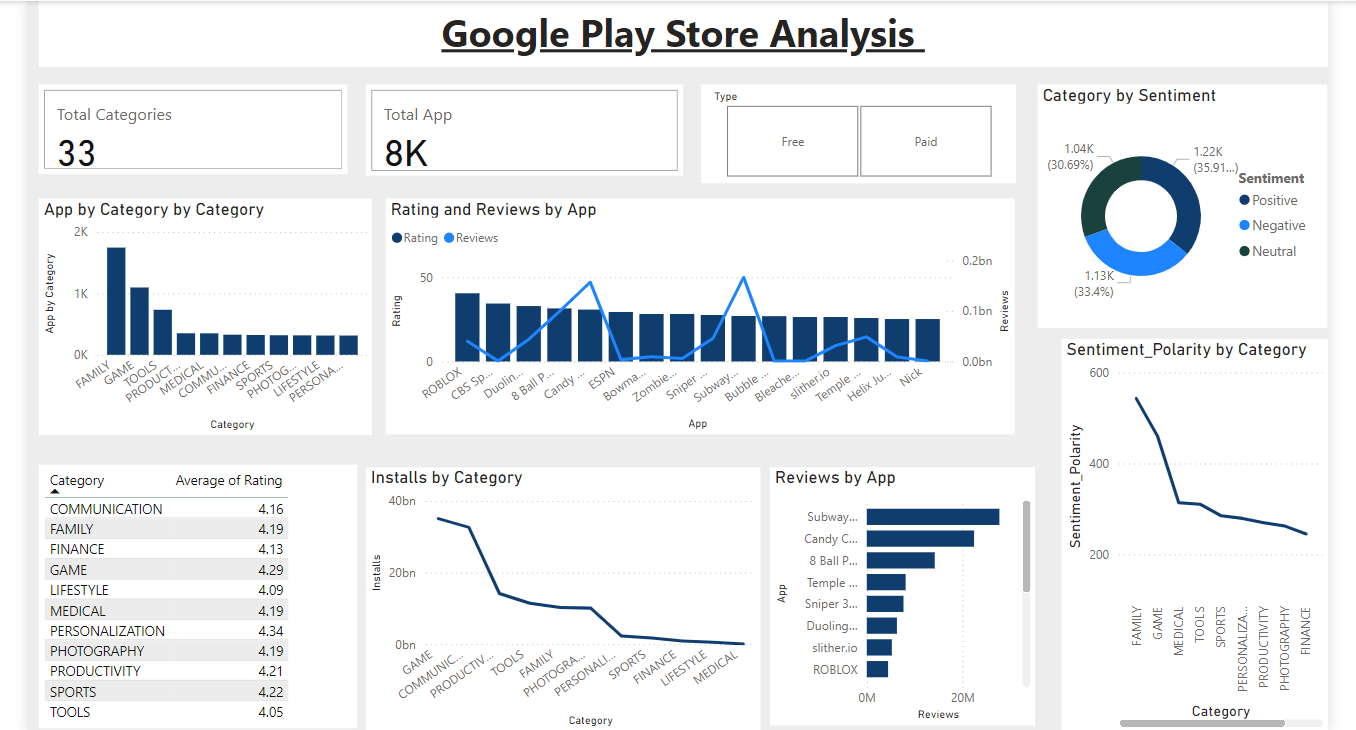

The dashboard page shown, as its layout file describes it:
{"tool":"powerbi","page":{"name":"Page 1","canvas":[1280,720],"ordinal":0},"visuals":[{"type":"textbox","box":[10.4,0,1270.1,65.3],"z":0},{"type":"cardVisual","fields":{"Data":["googleplaystore.Total Categories"]},"box":[10,82.9,304.3,88.6],"z":1000},{"type":"cardVisual","fields":{"Data":["googleplaystore.Total App"]},"box":[332.5,82.5,312.5,90],"z":2000},{"type":"clusteredColumnChart","fields":{"Category":["googleplaystore.Category"],"Y":["CountNonNull(googleplaystore.App)"]},"box":[10,194.3,328.6,232.9],"z":3000},{"type":"lineStackedColumnComboChart","fields":{"Category":["googleplaystore.App"],"Y":["Sum(googleplaystore.Rating)"],"Y2":["Sum(googleplaystore.Reviews)"]},"box":[352.5,195,620,232.5],"z":4000},{"type":"clusteredBarChart","fields":{"Category":["googleplaystore.App"],"Y":["Max(googleplaystore.Reviews)"]},"box":[731.4,460,261.4,254.3],"z":5000},{"type":"tableEx","fields":{"Values":["googleplaystore.Category","Avg(googleplaystore.Rating)"]},"box":[10,457.1,314.3,260],"z":6000},{"type":"lineChart","fields":{"Category":["googleplaystore.Category"],"Y":["Sum(googleplaystore.Installs)"]},"box":[332.9,460,388.6,260],"z":7000},{"type":"lineChart","fields":{"Category":["googleplaystore.Category"],"Y":["Sum(googleplaystore_user_reviews.Sentiment_Polarity)"]},"box":[1017.5,332.5,262.5,387.5],"z":8000},{"type":"donutChart","fields":{"Y":["CountNonNull(googleplaystore.Category)"],"Category":["googleplaystore_user_reviews.Sentiment"]},"box":[995,82.5,285,240],"z":9000},{"type":"slicer","fields":{"Values":["googleplaystore.Type"]},"box":[662.5,82.5,310,97.5],"z":10000}]}

Visuals, with their boxes on the page's 1280x720 design canvas (x1, y1, x2, y2). These are canvas units, not pixel positions in the 1356x730 screenshot, which may show the page scaled, cropped or inside an application window:
textbox: (left=10, top=0, right=1280, bottom=65)
cardVisual - googleplaystore.Total Categories: (left=10, top=83, right=314, bottom=172)
cardVisual - googleplaystore.Total App: (left=332, top=82, right=645, bottom=172)
clusteredColumnChart - googleplaystore.Category x CountNonNull(googleplaystore.App): (left=10, top=194, right=339, bottom=427)
lineStackedColumnComboChart - googleplaystore.App x Sum(googleplaystore.Rating): (left=352, top=195, right=972, bottom=428)
clusteredBarChart - googleplaystore.App x Max(googleplaystore.Reviews): (left=731, top=460, right=993, bottom=714)
tableEx - googleplaystore.Category x Avg(googleplaystore.Rating): (left=10, top=457, right=324, bottom=717)
lineChart - googleplaystore.Category x Sum(googleplaystore.Installs): (left=333, top=460, right=722, bottom=720)
lineChart - googleplaystore.Category x Sum(googleplaystore_user_reviews.Sentiment_Polarity): (left=1018, top=332, right=1280, bottom=720)
donutChart - CountNonNull(googleplaystore.Category) x googleplaystore_user_reviews.Sentiment: (left=995, top=82, right=1280, bottom=322)
slicer - googleplaystore.Type: (left=662, top=82, right=972, bottom=180)
